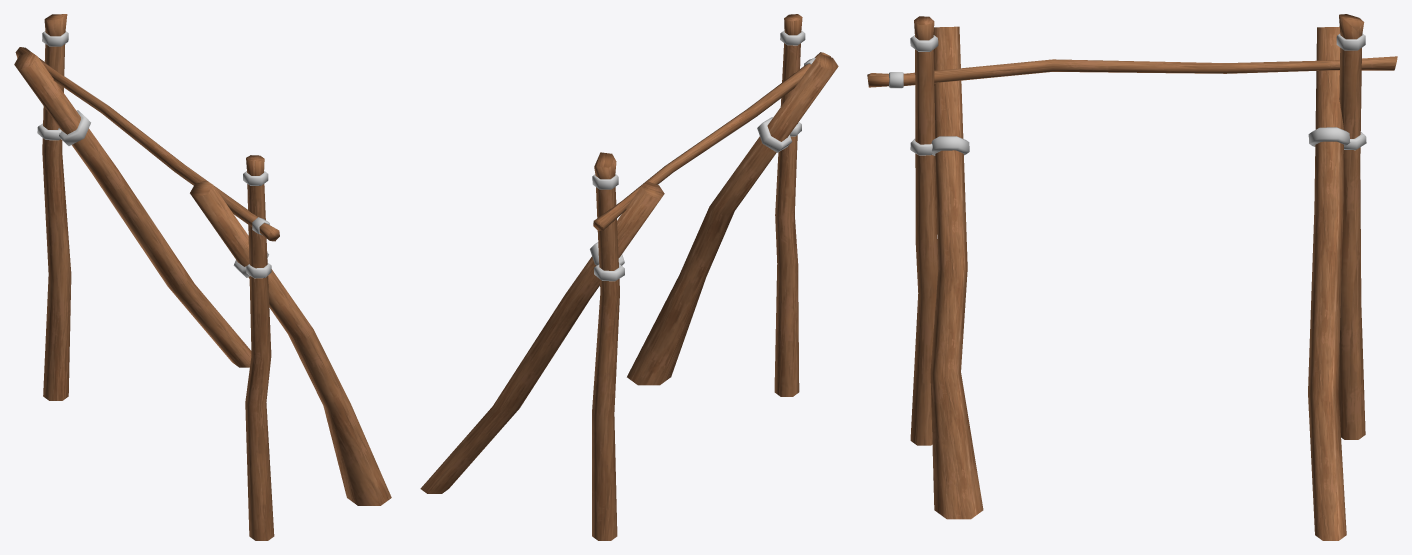
File: Wooden Hang_2.fbx
The picture shows the model from 3 angles, left to right: view 1: azimuth 30°, elevation 25°; view 2: azimuth 150°, elevation 25°; view 3: azimuth 270°, elevation 25°; orthographic projection. The views are drawn at different scales.
Visible parts, largest first — view 1: Wooden Hang_2; view 2: Wooden Hang_2; view 3: Wooden Hang_2.
Boxes of the visible parts, x1,y1,x2,y2 form: Wooden Hang_2: [14, 14, 391, 540]; Wooden Hang_2: [420, 14, 838, 540]; Wooden Hang_2: [867, 14, 1397, 540].
Bounding box in the file's own units: 1.06 × 1.63 × 1.85.
